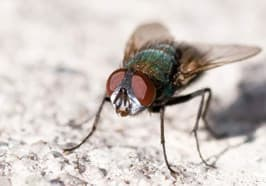fly: (58, 14, 263, 183)
